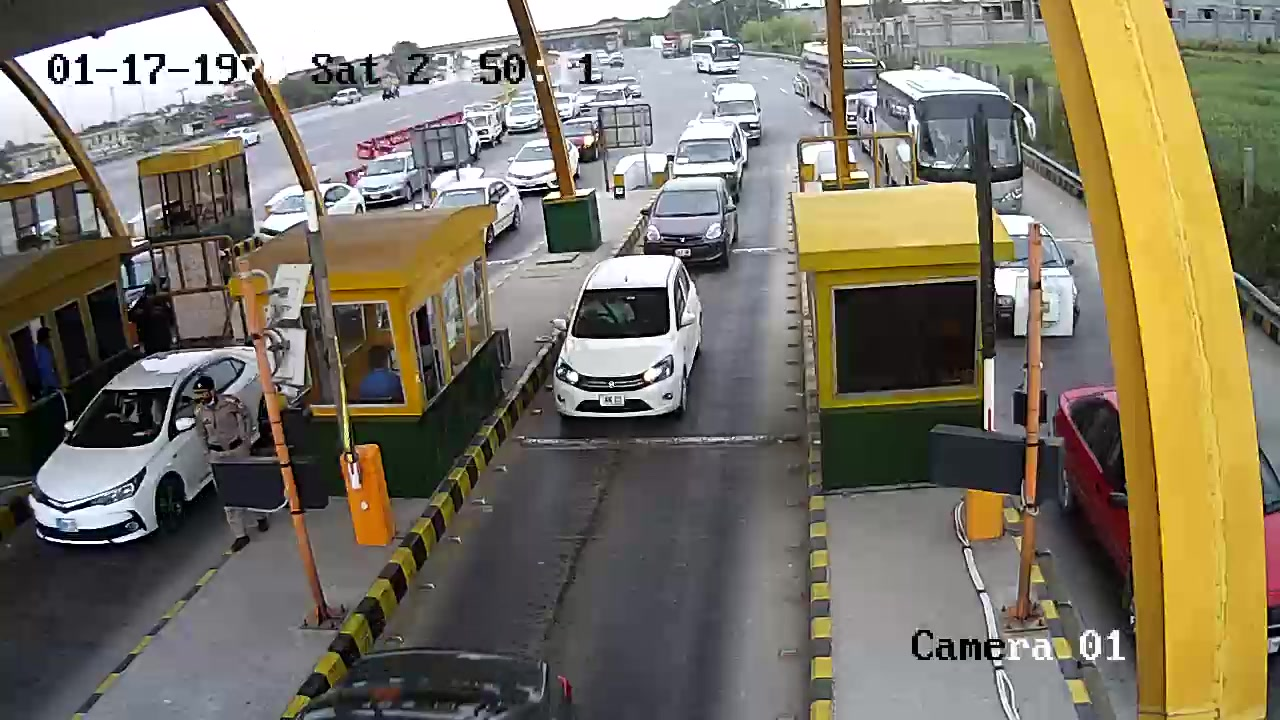F1: (540, 252, 713, 432)
